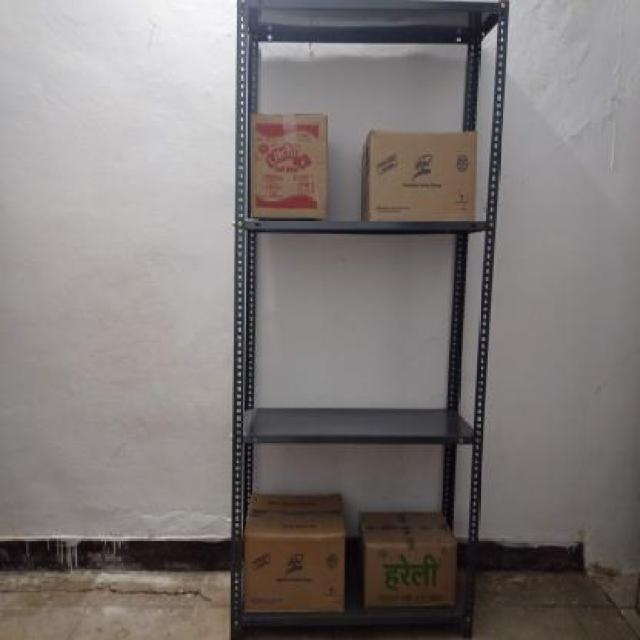box: (362, 130, 482, 219), (249, 112, 328, 218), (238, 536, 344, 615), (358, 546, 457, 612)
